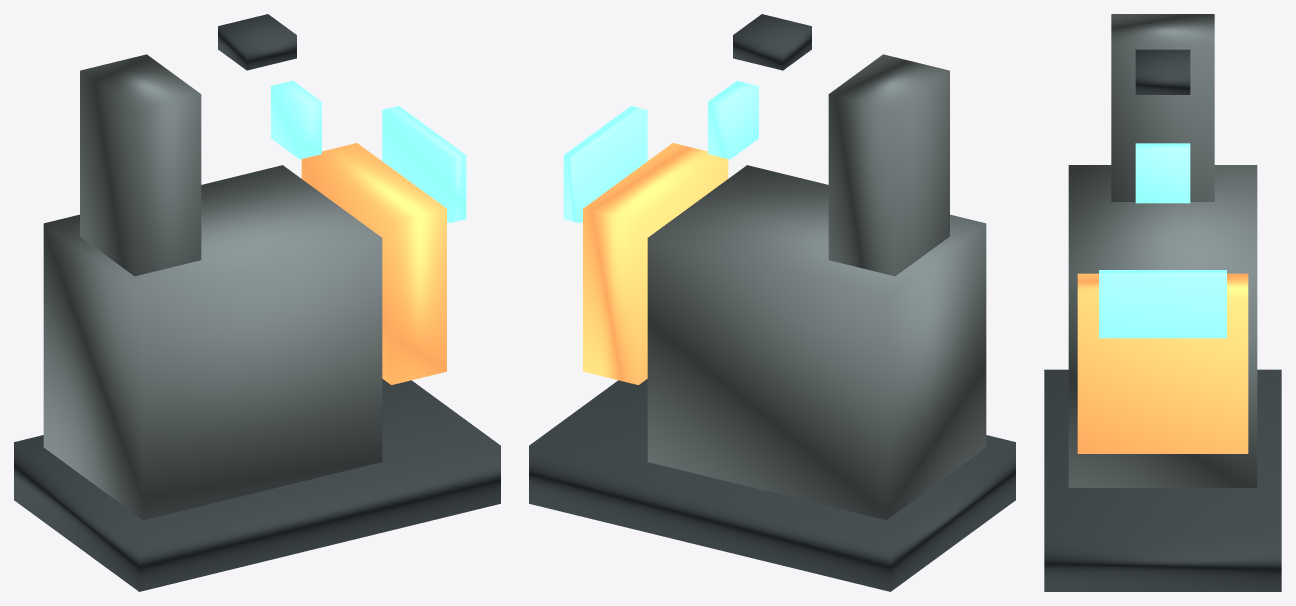
The model's file is jovian-harvester-relief-manifold-lod1.glb.
3 renders of one model, left to right at view 1: azimuth 30°, elevation 25°; view 2: azimuth 150°, elevation 25°; view 3: azimuth 270°, elevation 25°, orthographic. The views are drawn at different scales.
Visible parts, largest first — view 1: jovian-harvester-relief-manifold-body, jovian-harvester-relief-manifold-skid, jovian-harvester-relief-manifold-riser, jovian-harvester-relief-manifold-valve, jovian-harvester-pressure-status, jovian-harvester-relief-manifold-gauge, objective-beacon-mount; view 2: jovian-harvester-relief-manifold-body, jovian-harvester-relief-manifold-skid, jovian-harvester-relief-manifold-riser, jovian-harvester-relief-manifold-valve, jovian-harvester-pressure-status, jovian-harvester-relief-manifold-gauge, objective-beacon-mount; view 3: jovian-harvester-relief-manifold-skid, jovian-harvester-relief-manifold-body, jovian-harvester-relief-manifold-valve, jovian-harvester-relief-manifold-riser, jovian-harvester-pressure-status, jovian-harvester-relief-manifold-gauge, objective-beacon-mount.
Part boxes in pixels (x1,y1,x2,y2): jovian-harvester-relief-manifold-body: (43, 165, 382, 520); jovian-harvester-relief-manifold-skid: (14, 379, 500, 591); jovian-harvester-relief-manifold-riser: (80, 54, 201, 276); jovian-harvester-relief-manifold-valve: (301, 143, 446, 384); jovian-harvester-pressure-status: (382, 106, 466, 222); jovian-harvester-relief-manifold-gauge: (271, 80, 321, 159); objective-beacon-mount: (218, 14, 296, 70); jovian-harvester-relief-manifold-body: (647, 165, 986, 520); jovian-harvester-relief-manifold-skid: (529, 379, 1015, 591); jovian-harvester-relief-manifold-riser: (828, 54, 949, 276); jovian-harvester-relief-manifold-valve: (583, 143, 728, 384); jovian-harvester-pressure-status: (563, 106, 647, 222); jovian-harvester-relief-manifold-gauge: (708, 80, 758, 159); objective-beacon-mount: (733, 14, 811, 70); jovian-harvester-relief-manifold-skid: (1044, 369, 1281, 591); jovian-harvester-relief-manifold-body: (1068, 165, 1257, 487); jovian-harvester-relief-manifold-valve: (1077, 273, 1248, 453); jovian-harvester-relief-manifold-riser: (1111, 14, 1214, 201); jovian-harvester-pressure-status: (1099, 270, 1226, 338); jovian-harvester-relief-manifold-gauge: (1135, 143, 1190, 203); objective-beacon-mount: (1135, 49, 1190, 94).
Size of the model in its own units: 1.3 by 1.62 by 0.78.
